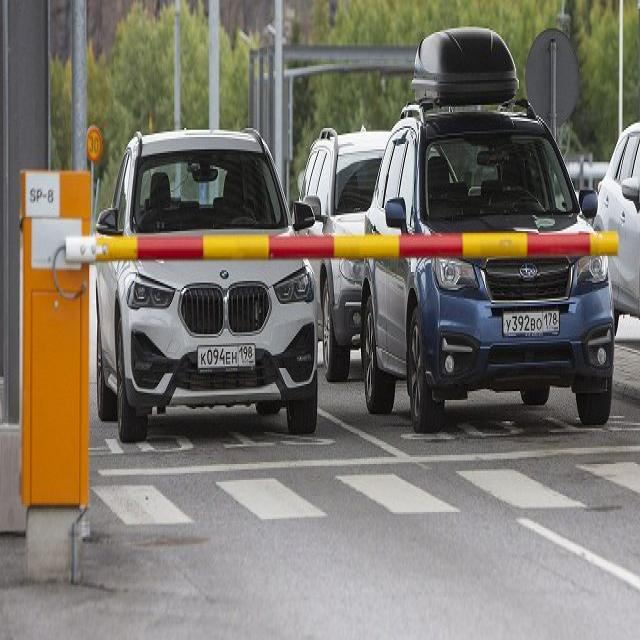number-plates: (197, 341, 256, 377), (501, 308, 560, 342)
